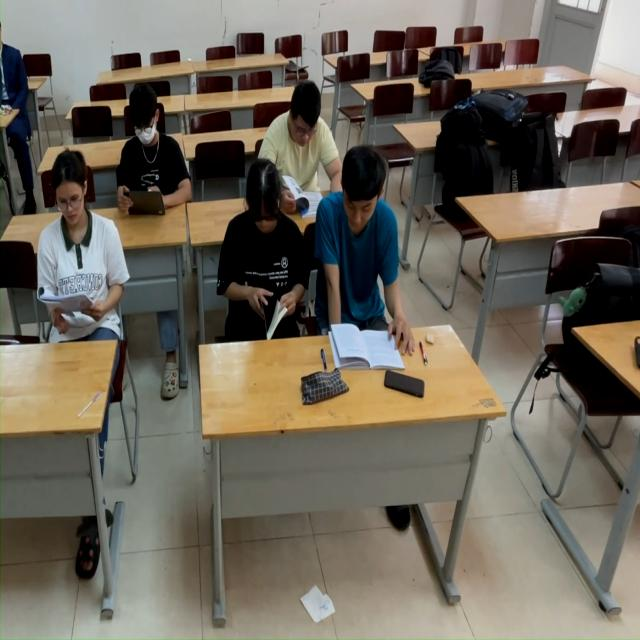read: (37, 153, 127, 373), (330, 147, 405, 382), (219, 179, 311, 353), (120, 65, 194, 216), (266, 82, 332, 218)
